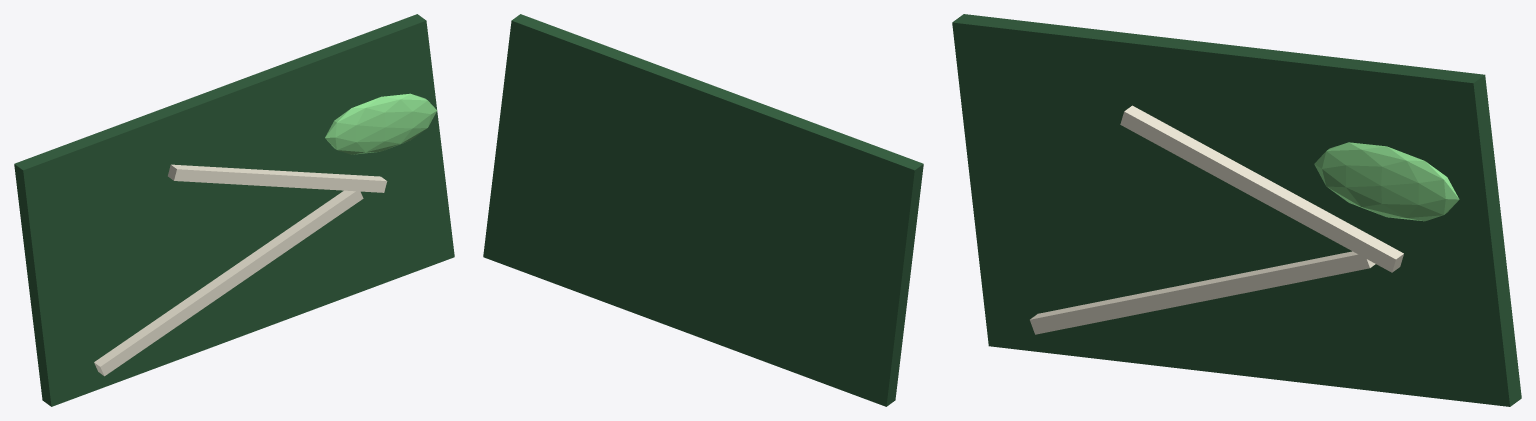
Rendered from 02_weathering_wear_overlay_2.glb.
The picture shows the model from 3 angles, left to right: view 1: azimuth 30°, elevation 25°; view 2: azimuth 150°, elevation 25°; view 3: azimuth 330°, elevation 25°; orthographic projection. The views are drawn at different scales.
Visible parts, largest first — view 1: wear_plate, scratch_a, rust_or_moss_spot, scratch_b; view 2: wear_plate; view 3: wear_plate, rust_or_moss_spot, scratch_b, scratch_a.
Boxes of the visible parts, left/top/right/bottom form: wear_plate: left=14, top=14, right=454, bottom=406; scratch_a: left=94, top=190, right=363, bottom=376; rust_or_moss_spot: left=325, top=93, right=437, bottom=154; scratch_b: left=168, top=164, right=387, bottom=192; wear_plate: left=483, top=14, right=923, bottom=406; wear_plate: left=952, top=14, right=1521, bottom=406; rust_or_moss_spot: left=1314, top=142, right=1459, bottom=221; scratch_b: left=1120, top=105, right=1403, bottom=272; scratch_a: left=1030, top=251, right=1375, bottom=334.
Bounding box in the file's own units: 1.38 × 0.9017 × 0.134.
